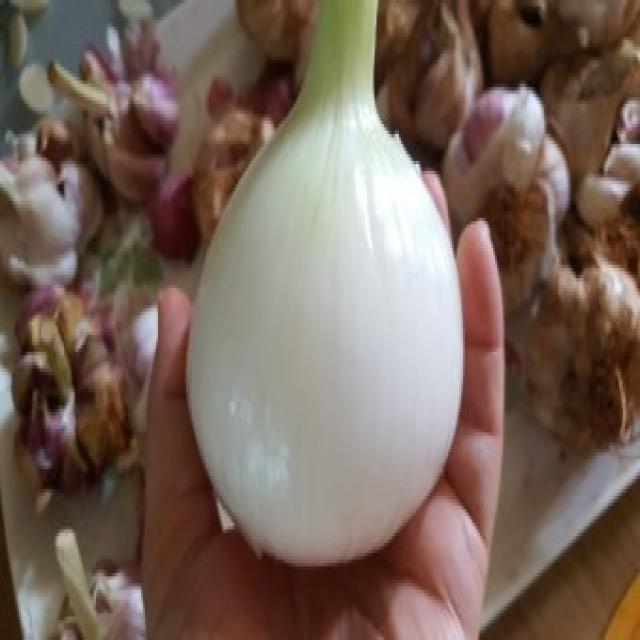onion: (176, 42, 498, 596)
